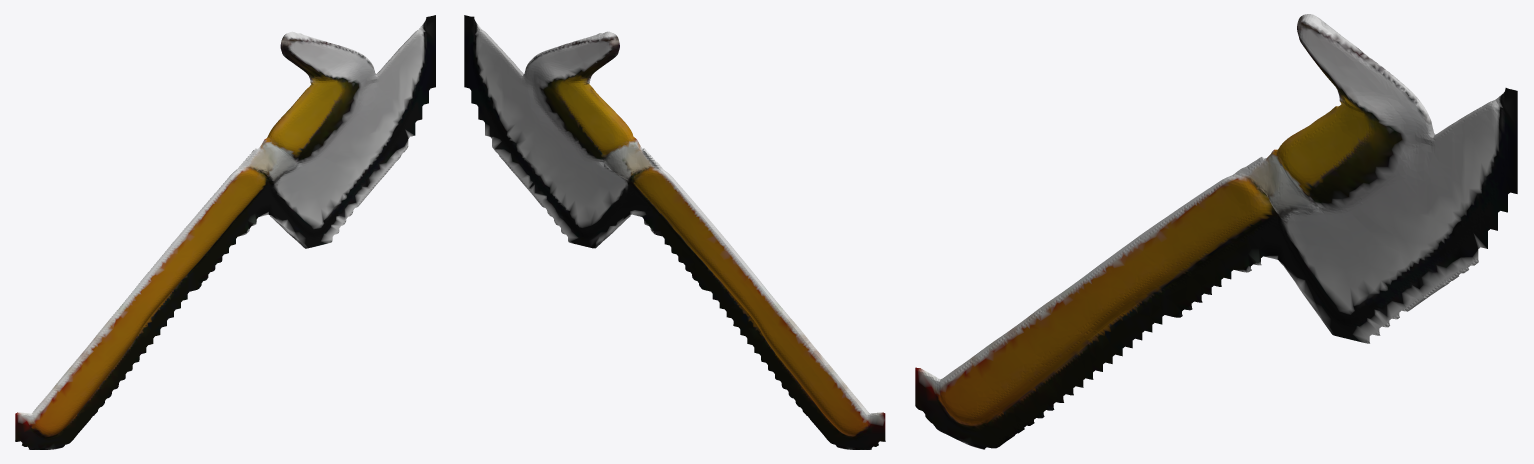
File: axe_5.glb
3 renders of one model, left to right at view 1: azimuth 30°, elevation 25°; view 2: azimuth 150°, elevation 25°; view 3: azimuth 330°, elevation 25°, orthographic. The views are drawn at different scales.
Visible parts, largest first — view 1: geometry_0; view 2: geometry_0; view 3: geometry_0.
Part boxes in pixels (x1,y1,x2,y2): geometry_0: (15, 15, 435, 449); geometry_0: (464, 15, 885, 449); geometry_0: (915, 14, 1517, 449).
Bounding box in the file's own units: 1 × 0.8178 × 0.0497.
